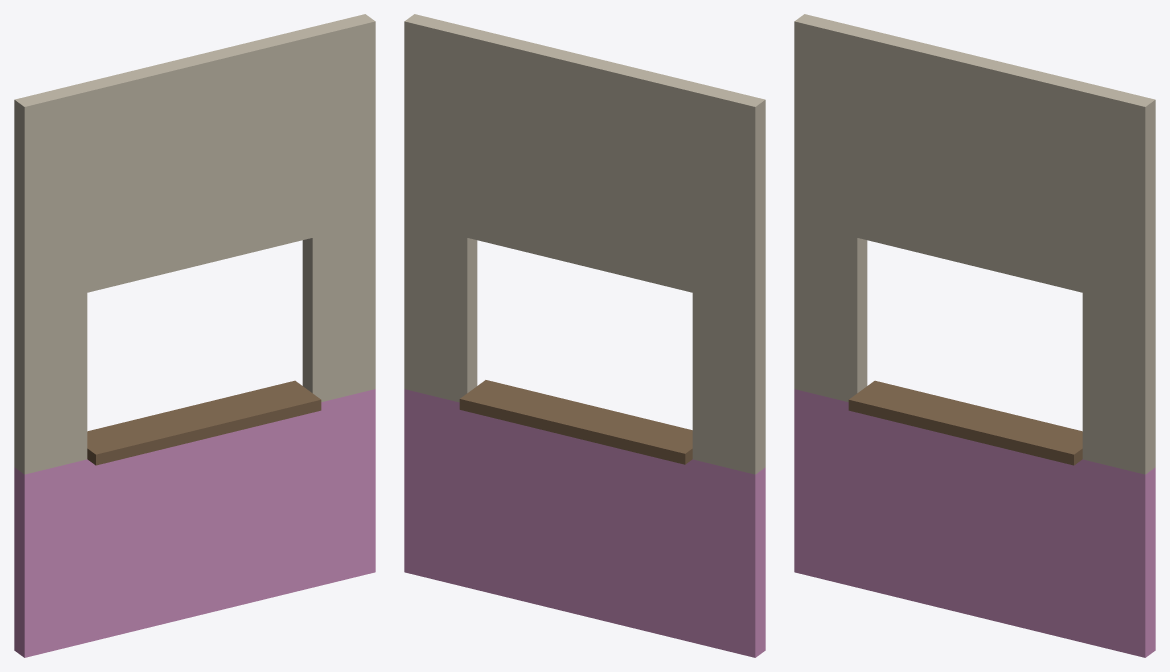
File: Mesh_Wall2Colors_H3.fbx
The picture shows the model from 3 angles, left to right: view 1: azimuth 30°, elevation 25°; view 2: azimuth 150°, elevation 25°; view 3: azimuth 330°, elevation 25°; orthographic projection.
Parts seen in each view (by area): view 1: Mesh_Wall2Colors_H3; view 2: Mesh_Wall2Colors_H3; view 3: Mesh_Wall2Colors_H3.
Boxes of the visible parts, x1,y1,x2,y2 form: Mesh_Wall2Colors_H3: (14,14,375,657); Mesh_Wall2Colors_H3: (404,14,765,657); Mesh_Wall2Colors_H3: (794,14,1155,657).
Size of the model in its own units: 2 by 3 by 0.2574.
